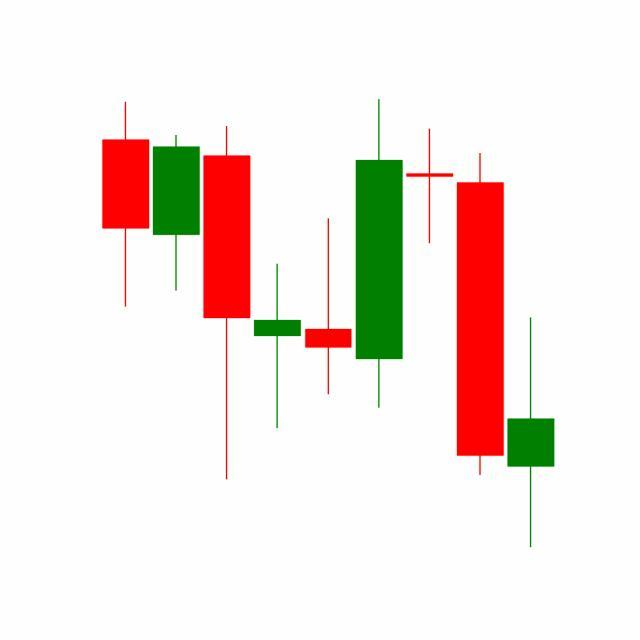Hikkake Pattern: (252, 100, 506, 481)
